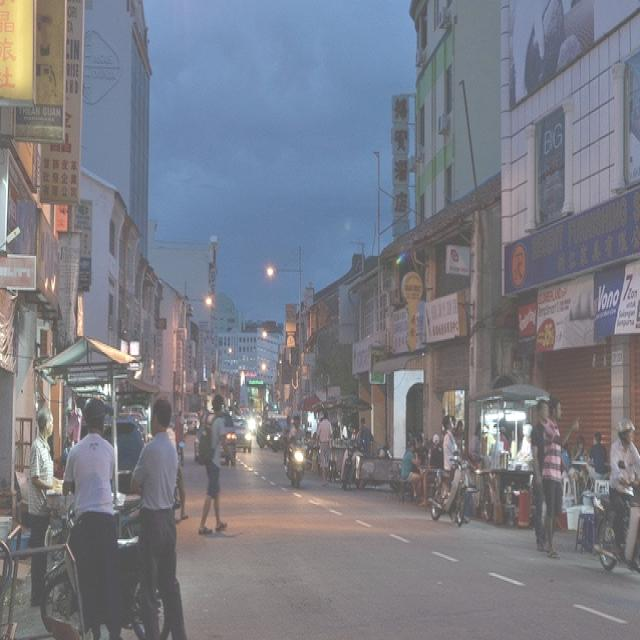Motorbike: (430, 457, 474, 531), (276, 430, 310, 482)
